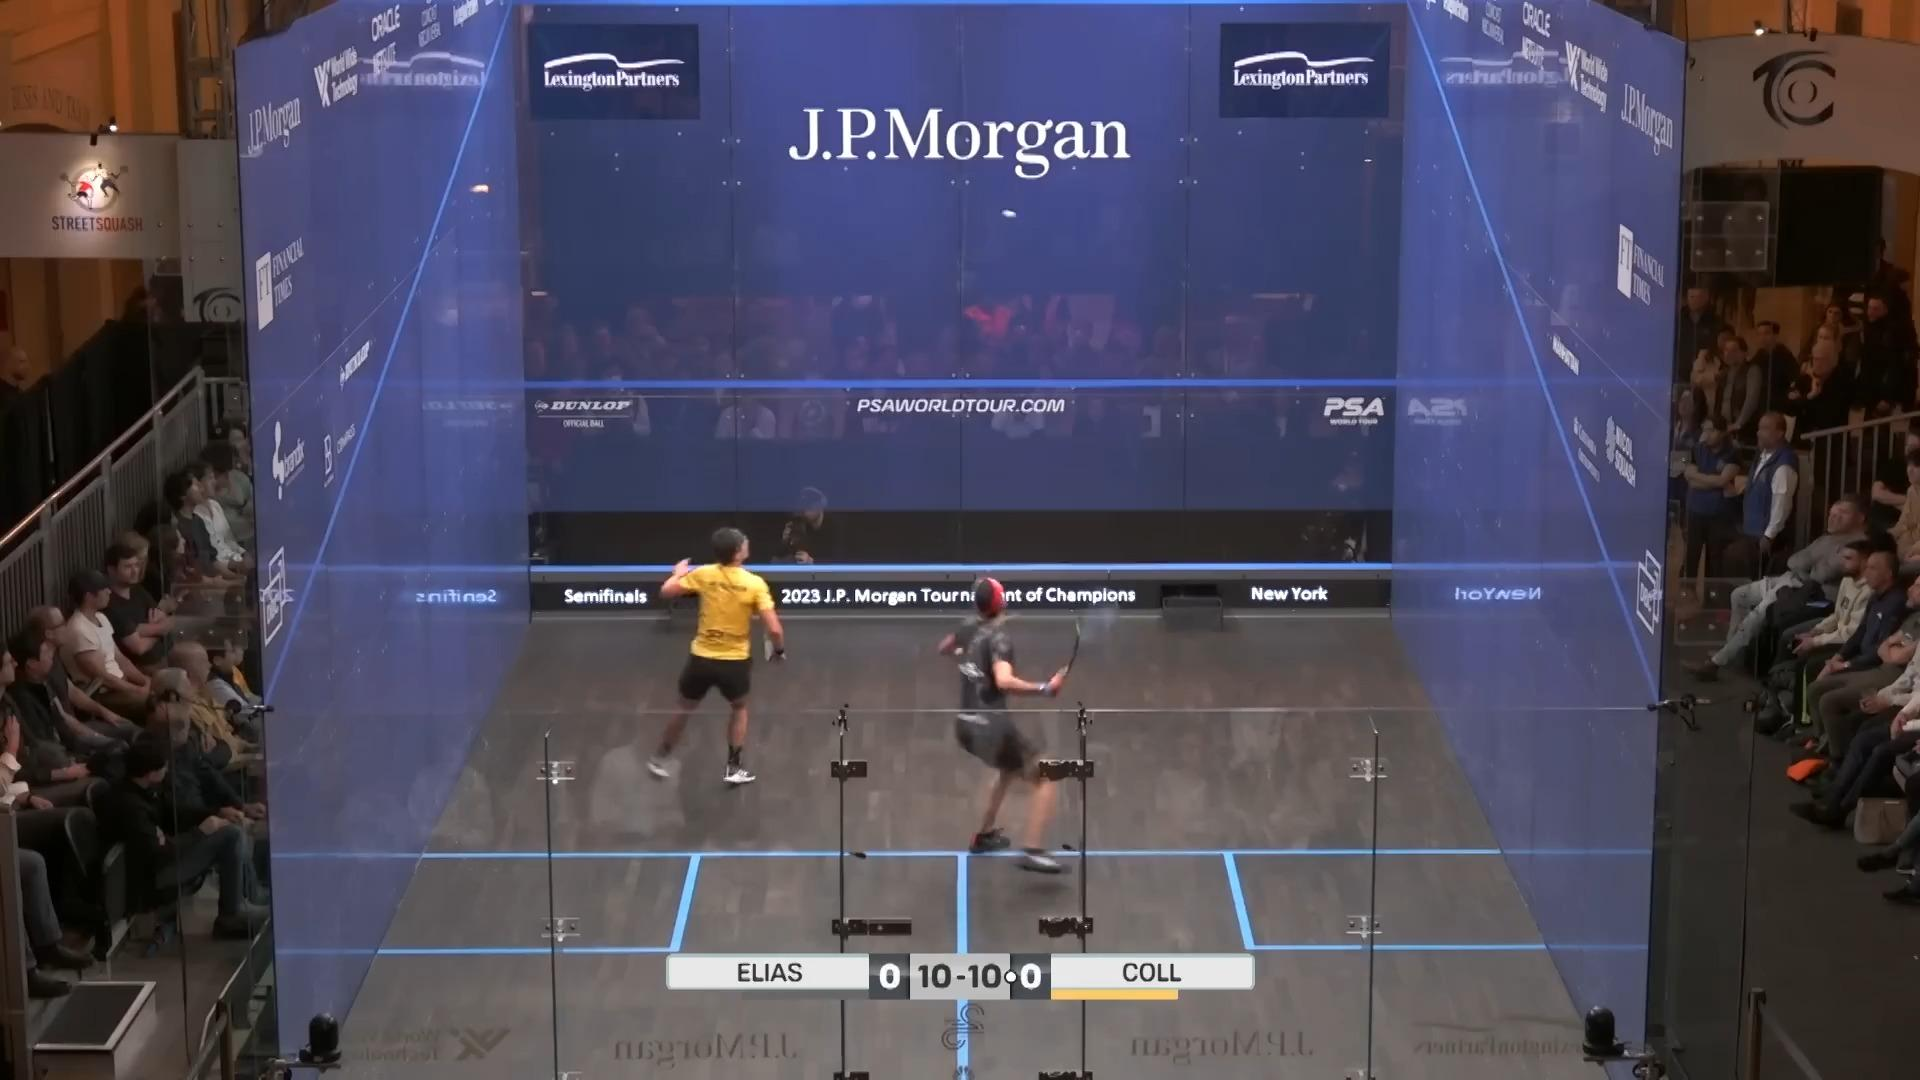Racket: (1056, 584, 1137, 675)
